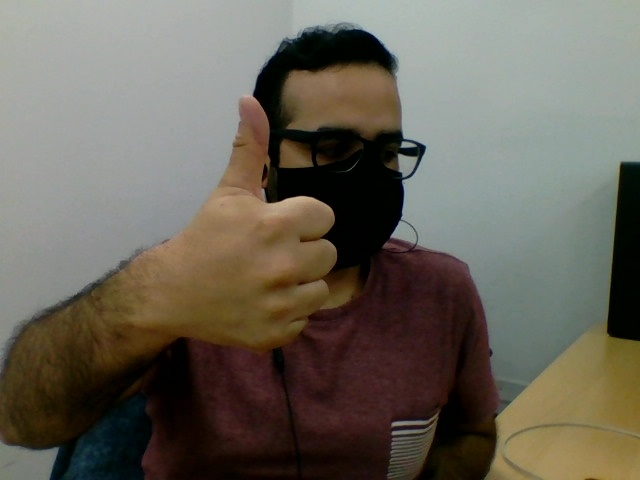ThumbsUp: (172, 95, 338, 351)
